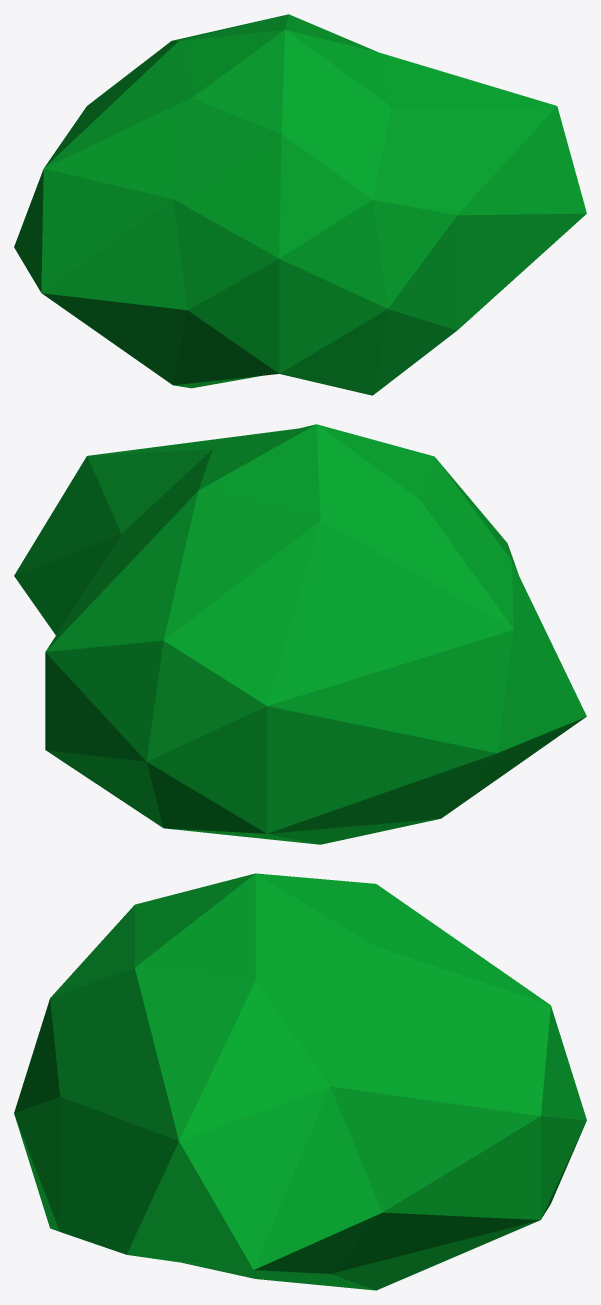
The model's file is Bush2.obj.
3 renders of one model, top to bottom at view 1: azimuth 30°, elevation 25°; view 2: azimuth 150°, elevation 25°; view 3: azimuth 270°, elevation 25°, orthographic. The views are drawn at different scales.
Visible parts, largest first — view 1: Bush2; view 2: Bush2; view 3: Bush2.
Part boxes in pixels (left/top/right/bottom): Bush2: left=14, top=14, right=586, bottom=395; Bush2: left=14, top=424, right=586, bottom=844; Bush2: left=14, top=873, right=586, bottom=1290.
Size of the model in its own units: 8.72 by 5.41 by 7.12.
